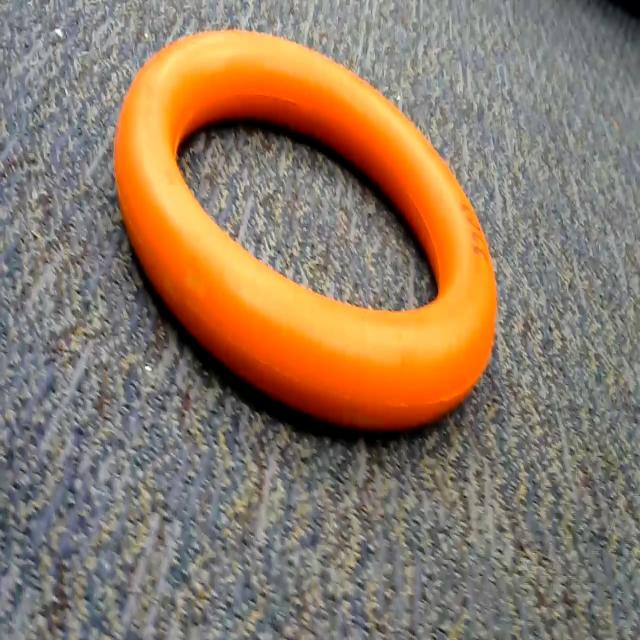note: (98, 8, 516, 452)
